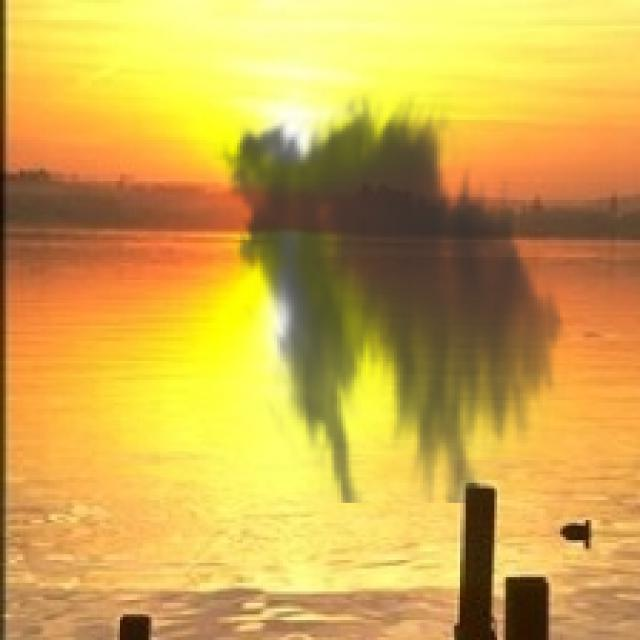Smoke: (212, 88, 574, 503)
